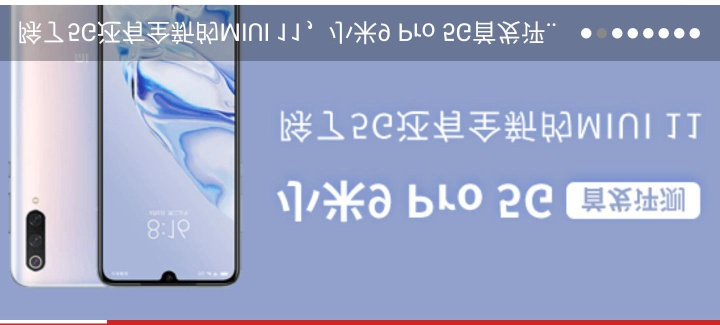ImgView: (1, 1, 719, 324)
